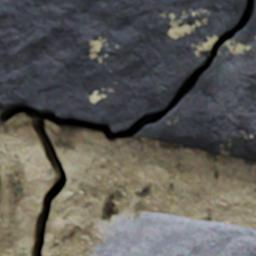brick: (87, 212, 255, 255)
broken_brick: (0, 0, 246, 131), (135, 0, 255, 161)
crack: (0, 0, 254, 255)
